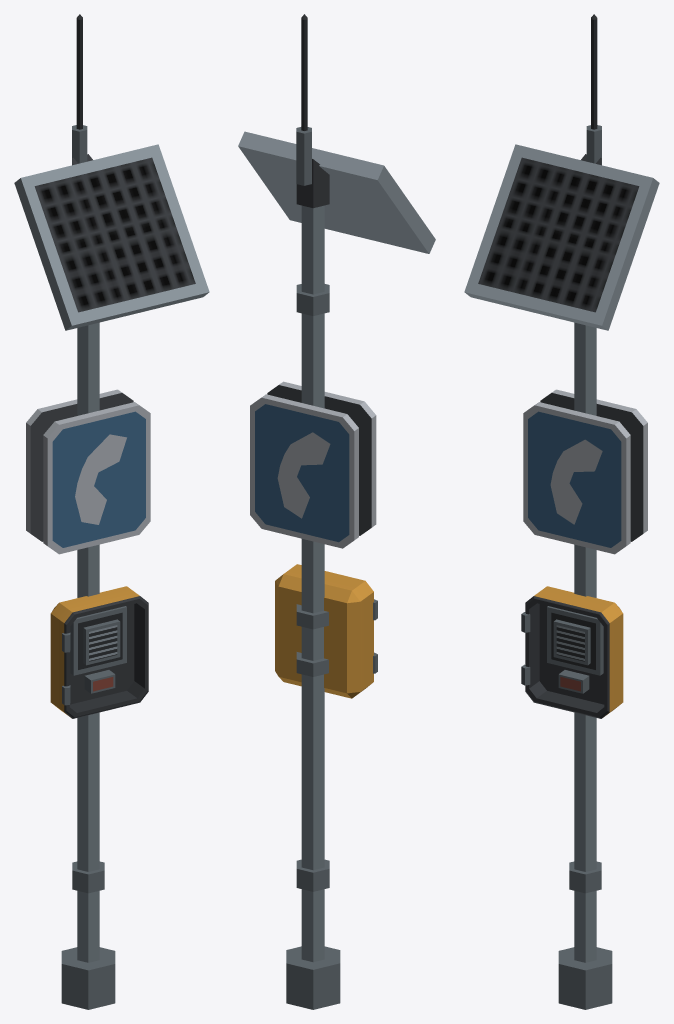
The model's file is SM_Prop_Emergency_Phone_01.fbx.
3 renders of one model, left to right at view 1: azimuth 30°, elevation 25°; view 2: azimuth 150°, elevation 25°; view 3: azimuth 330°, elevation 25°, orthographic.
Parts seen in each view (by area): view 1: SM_Prop_Emergency_Phone_01; view 2: SM_Prop_Emergency_Phone_01; view 3: SM_Prop_Emergency_Phone_01.
Boxes of the visible parts, box(x1,y1,x2,y2) form: SM_Prop_Emergency_Phone_01: box(14, 14, 209, 1009); SM_Prop_Emergency_Phone_01: box(238, 14, 435, 1009); SM_Prop_Emergency_Phone_01: box(464, 14, 659, 1009).
Bounding box in the file's own units: 59.55 × 403 × 49.11.
